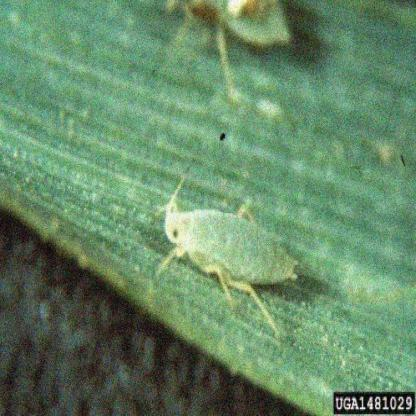schizaphis graminum: (158, 176, 296, 330)
